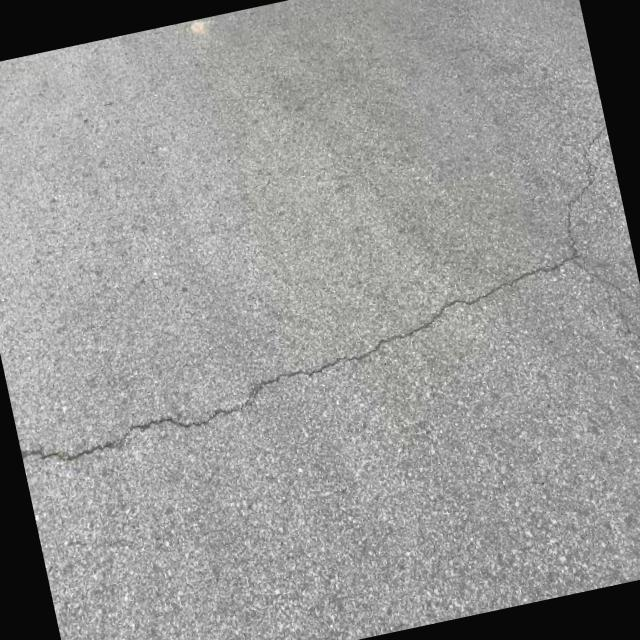Retak-Melintang: (20, 255, 573, 463)
Retak-Memanjang: (561, 126, 604, 257)
